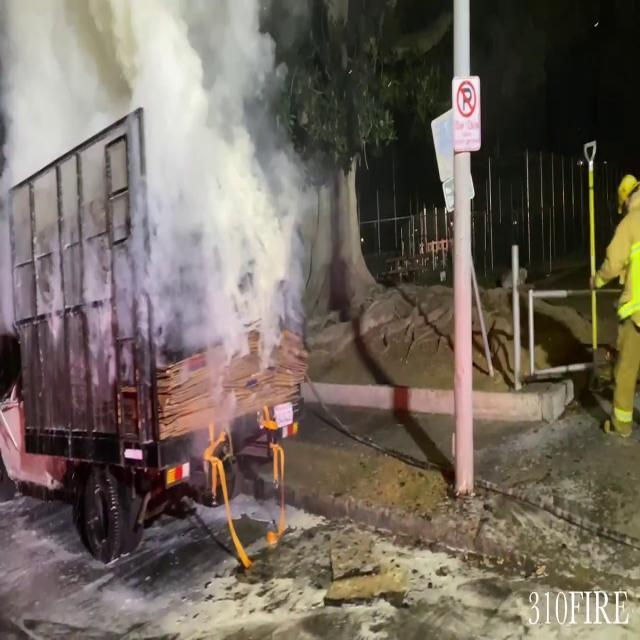Smoke: (0, 0, 339, 412), (133, 0, 339, 411)
